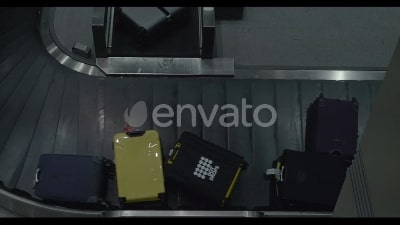baggage: (167, 132, 250, 204), (262, 147, 350, 211), (28, 150, 113, 210), (107, 124, 168, 206), (302, 92, 363, 162)
